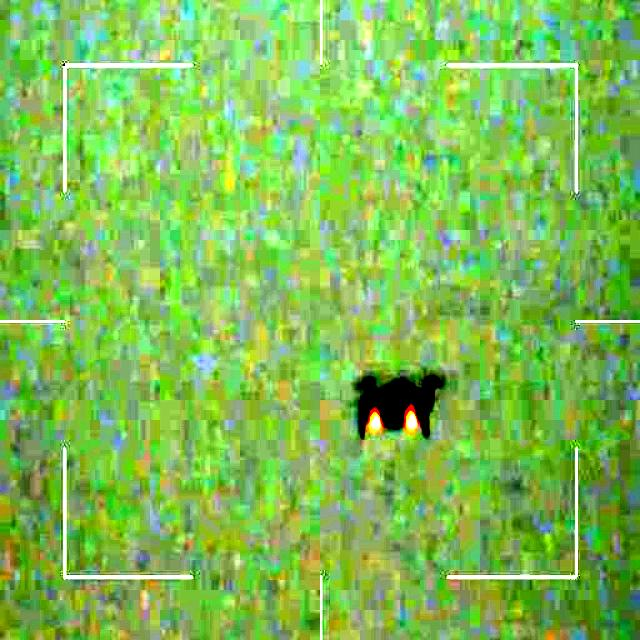bird: (350, 376, 445, 438)
